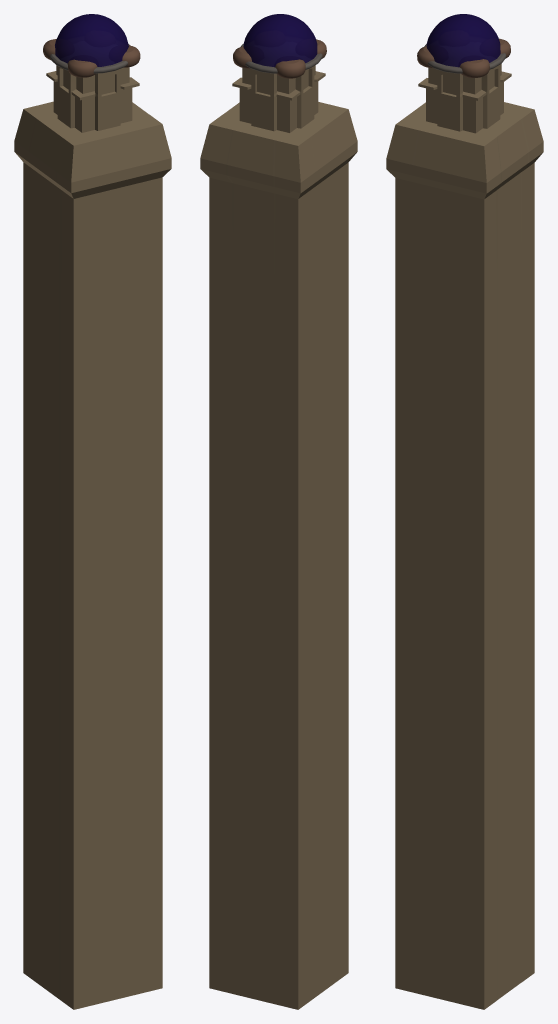
File: TallSDome2.fbx
3 views of the same model, side by side, from view 1: azimuth 30°, elevation 25°; view 2: azimuth 150°, elevation 25°; view 3: azimuth 330°, elevation 25° (orthographic).
Parts seen in each view (by area): view 1: ShortObsorb; view 2: ShortObsorb; view 3: ShortObsorb.
Part boxes in pixels (x1,y1,x2,y2): ShortObsorb: (14, 14, 171, 1009); ShortObsorb: (200, 14, 357, 1009); ShortObsorb: (386, 14, 543, 1009).
Size of the model in its own units: 7.59 by 69.51 by 7.45.
